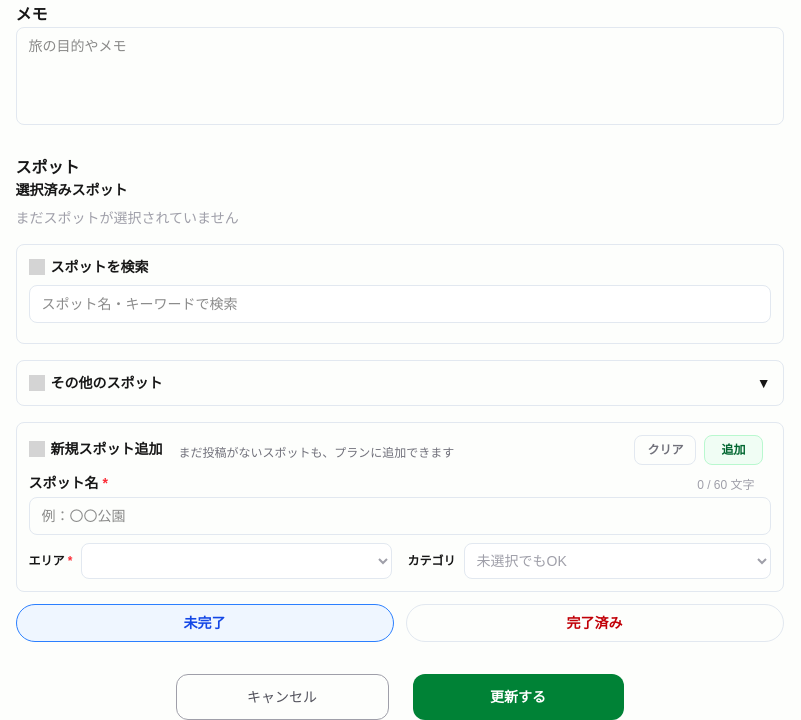
PlanForm（GATE-21: PUT一本化・completed/version統合） › PUT失敗（version不一致409）_成功トースト・画面遷移をしない
This screenshot has width=801, height=720.
(page scrolled)
Click the button "更新する" at (518, 697), box [412,674,624,719]
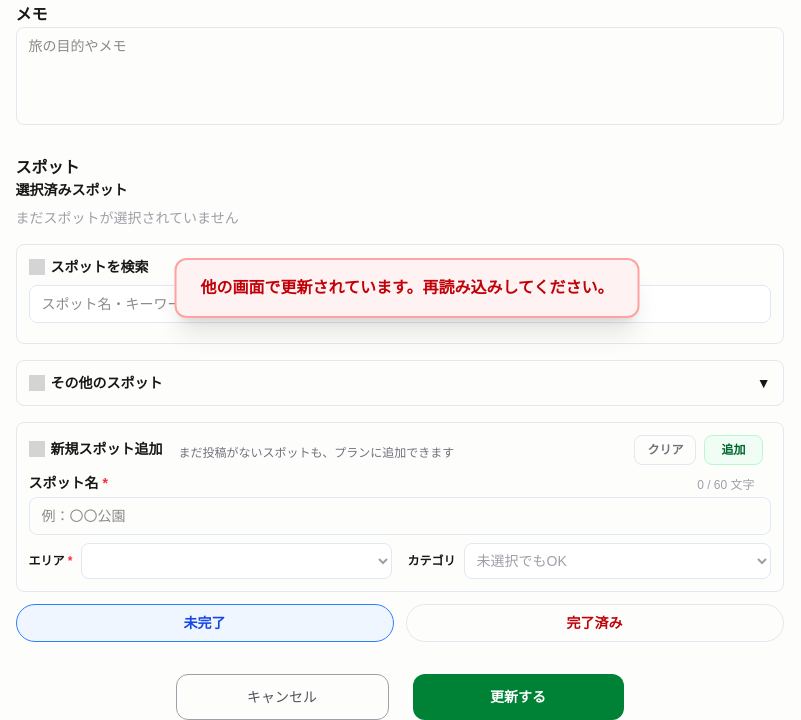
Check: the text "他の画面で更新されています。再読み込みしてください。" is shown, box [174,258,640,318]
